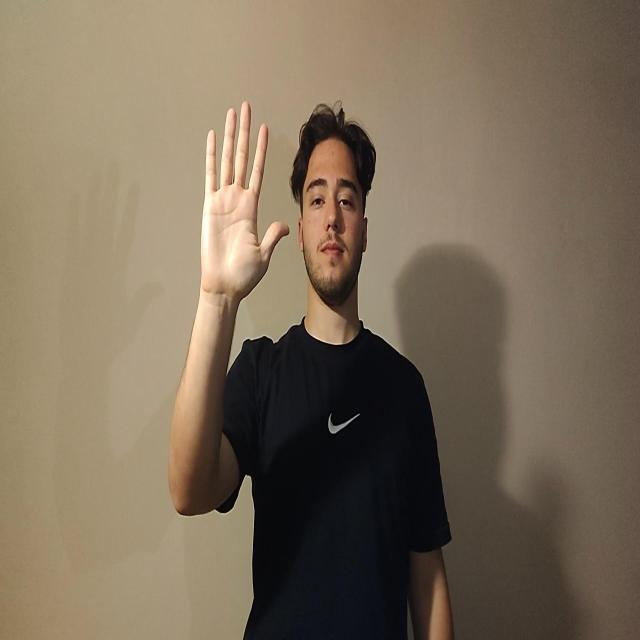hello: (199, 100, 290, 304)
